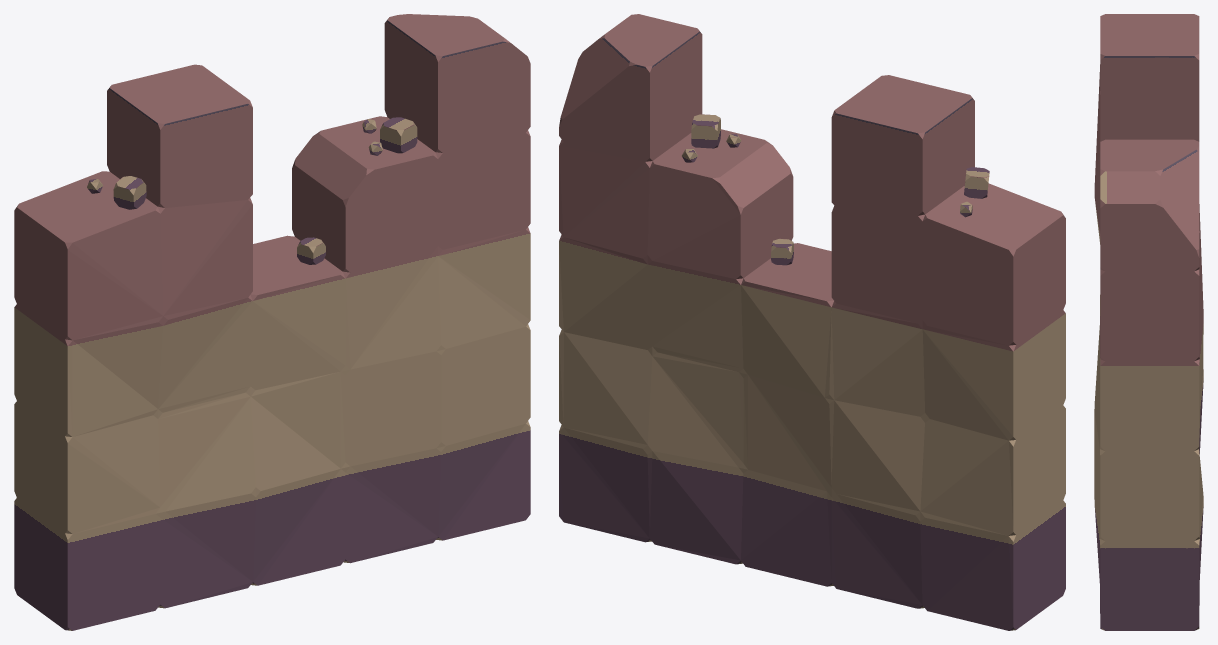
Rendered from Wall 2.002.fbx.
3 renders of one model, left to right at view 1: azimuth 30°, elevation 25°; view 2: azimuth 150°, elevation 25°; view 3: azimuth 270°, elevation 25°, orthographic. The views are drawn at different scales.
Visible parts, largest first — view 1: Wall 2.002; view 2: Wall 2.002; view 3: Wall 2.002.
Boxes of the visible parts, x1,y1,x2,y2 form: Wall 2.002: (14, 14, 530, 630); Wall 2.002: (559, 14, 1065, 630); Wall 2.002: (1094, 14, 1203, 630).
Size of the model in its own units: 500 by 500 by 110.
